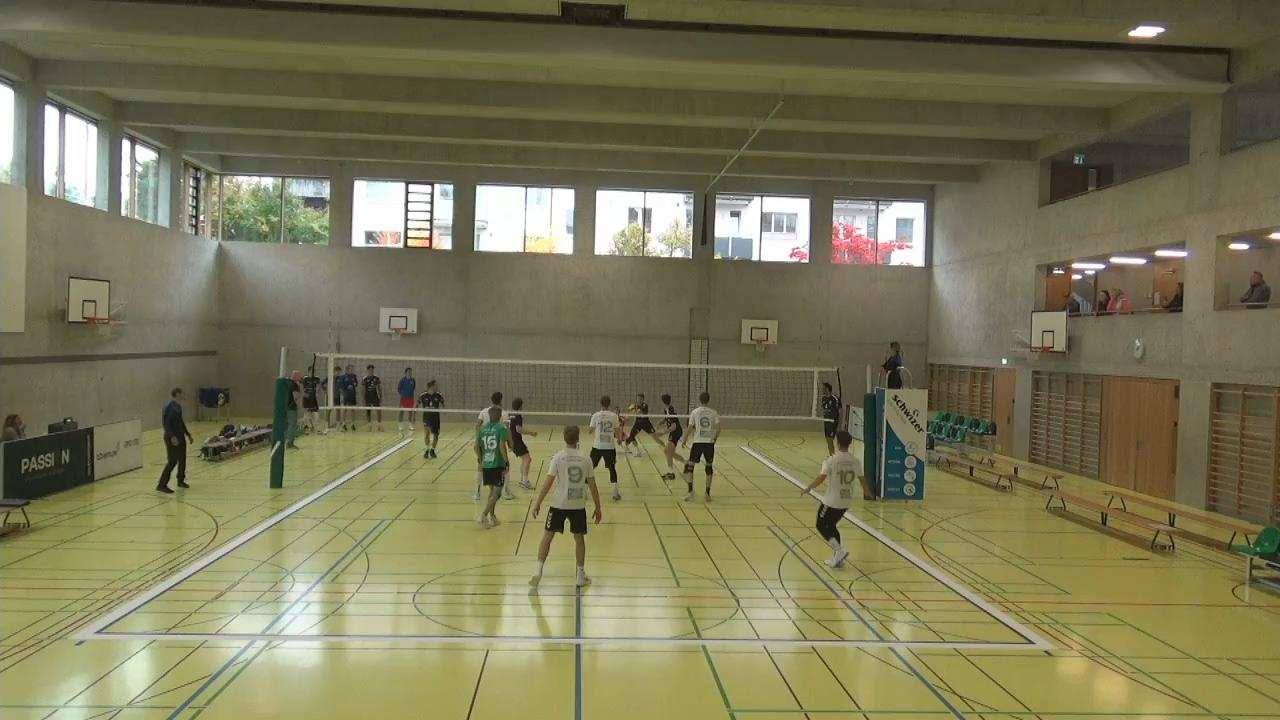Player: (526, 424, 602, 586), (809, 429, 857, 570), (474, 399, 512, 529), (681, 391, 719, 501), (586, 396, 625, 502), (506, 395, 534, 495), (656, 391, 685, 479), (818, 382, 847, 458), (419, 379, 444, 460), (475, 386, 510, 430)
Receive: (620, 387, 666, 459)
ball: (627, 400, 639, 416)
